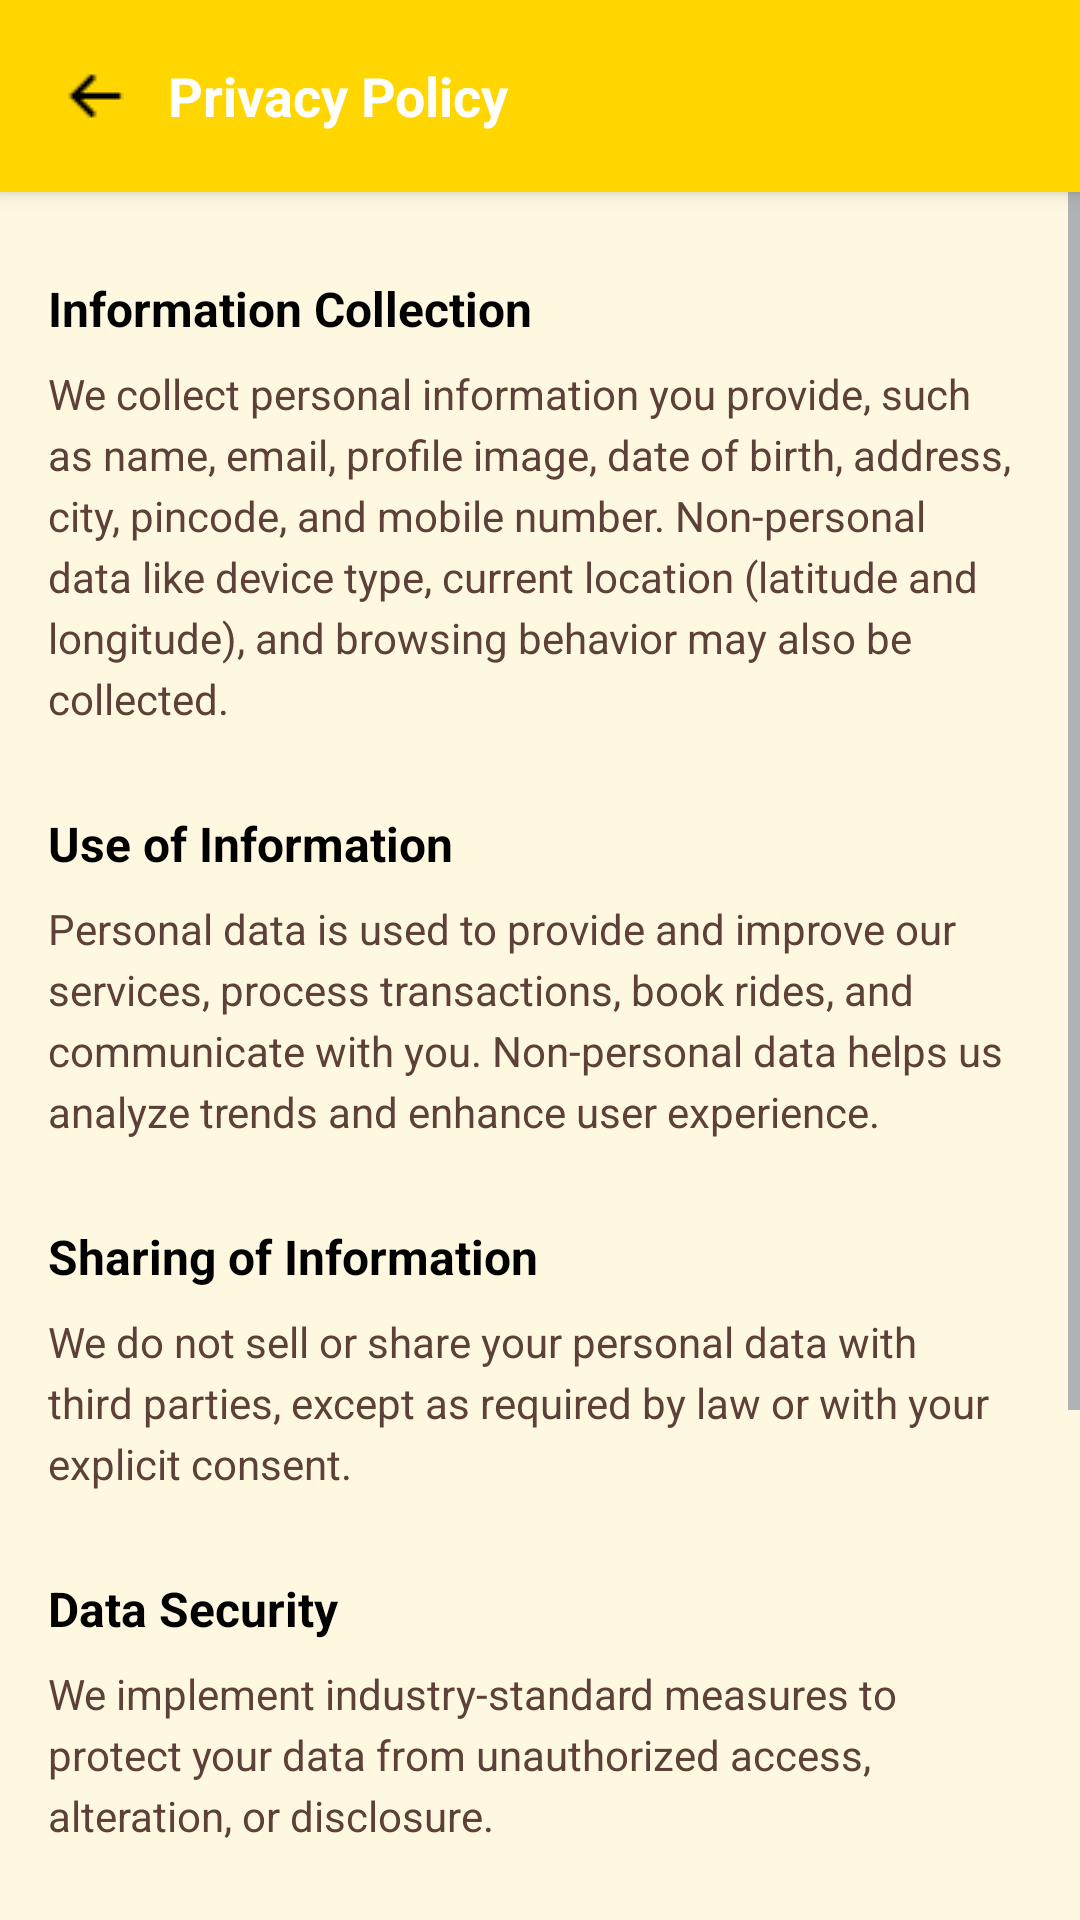

Icon click points for this 1080 x 1920 phone screenshot, format point (x, y):
Back Button: point (95, 96)
